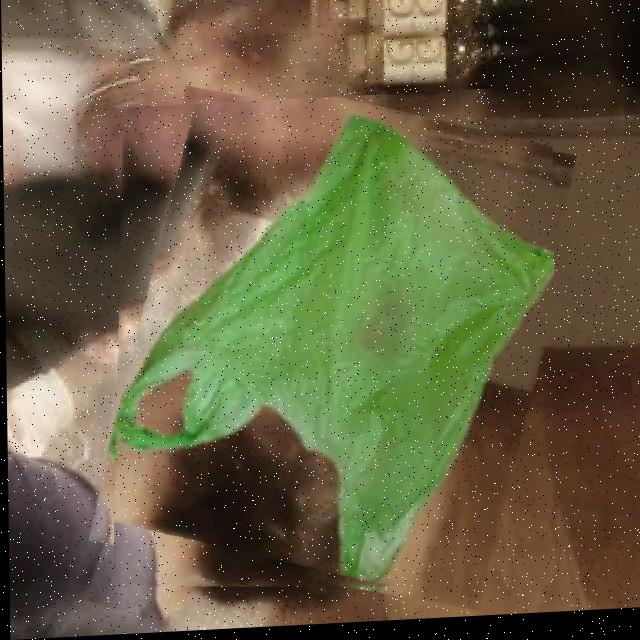litter: (104, 92, 556, 611)
